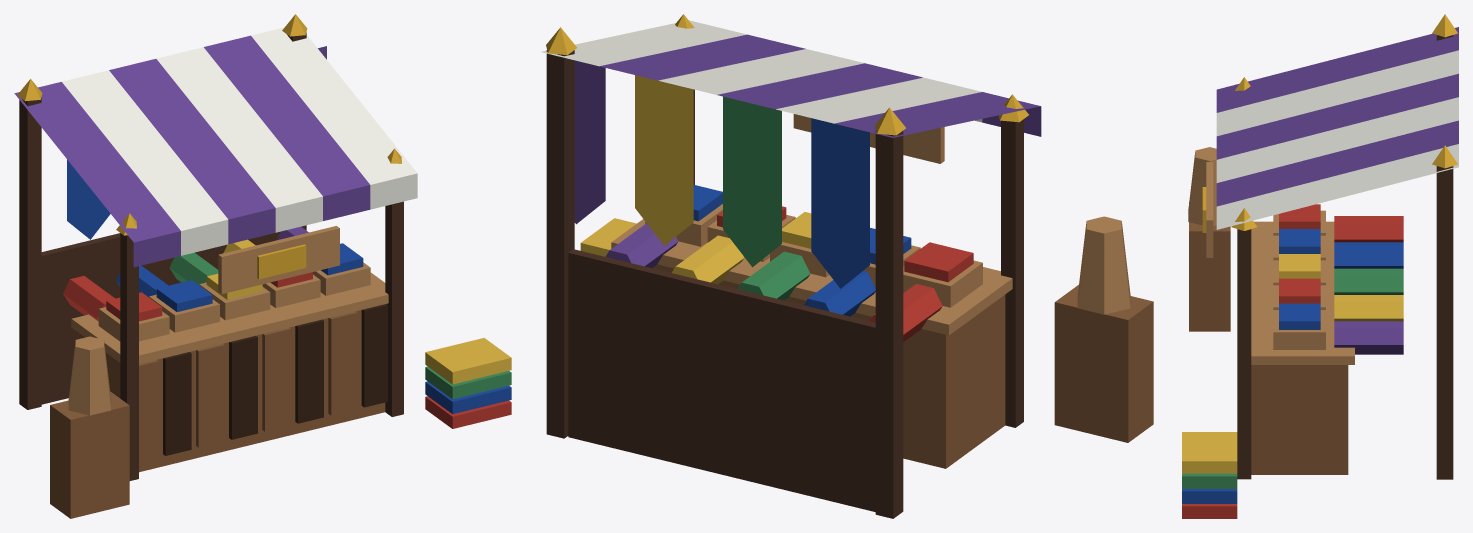
The model's file is stall_cloth.fbx.
3 views of the same model, side by side, from view 1: azimuth 30°, elevation 25°; view 2: azimuth 150°, elevation 25°; view 3: azimuth 270°, elevation 25° (orthographic). The views are drawn at different scales.
Visible parts, largest first — view 1: stall_cloth; view 2: stall_cloth; view 3: stall_cloth.
Boxes of the visible parts, <box> form: stall_cloth: <box>14,14,511,518</box>; stall_cloth: <box>541,14,1153,518</box>; stall_cloth: <box>1182,14,1458,518</box>.
Bounding box in the file's own units: 3.7 × 2.64 × 2.
